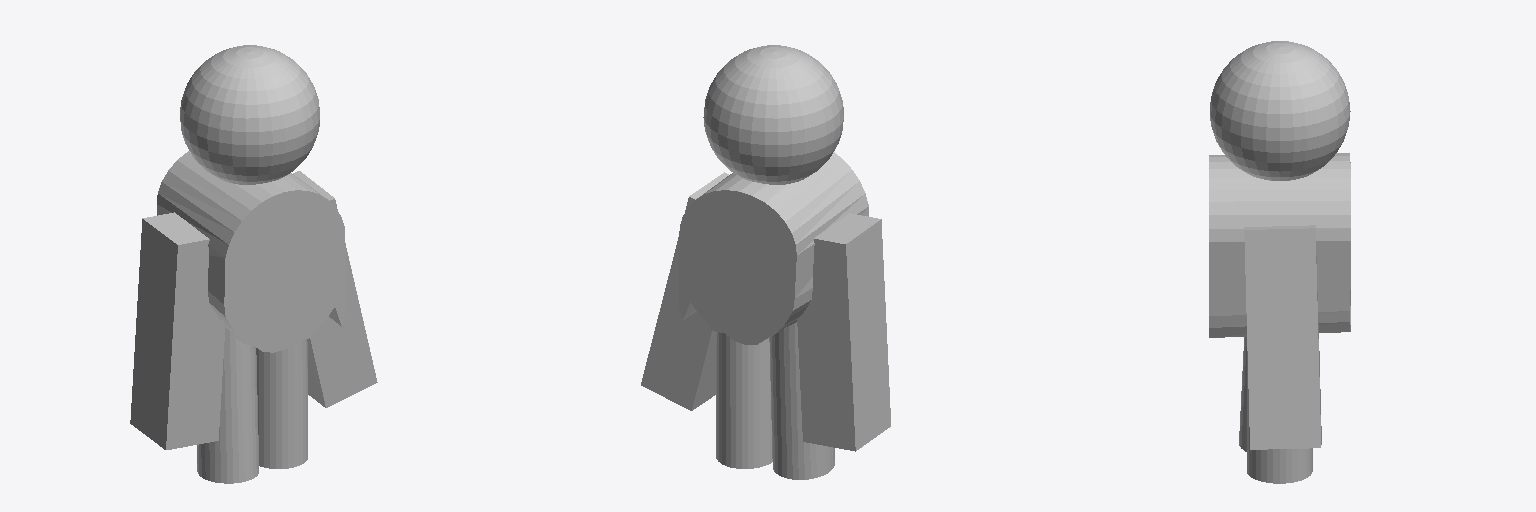
File: Figurine85.obj
3 views of the same model, side by side, from view 1: azimuth 30°, elevation 25°; view 2: azimuth 150°, elevation 25°; view 3: azimuth 270°, elevation 25° (orthographic).
Visible parts, largest first — view 1: Cylinder; view 2: Cylinder; view 3: Cylinder.
Part boxes in pixels (x1,y1,x2,y2): Cylinder: (130, 45, 377, 483); Cylinder: (641, 45, 890, 479); Cylinder: (1209, 41, 1350, 483).
Bounding box in the file's own units: 3.49 × 6.44 × 2.